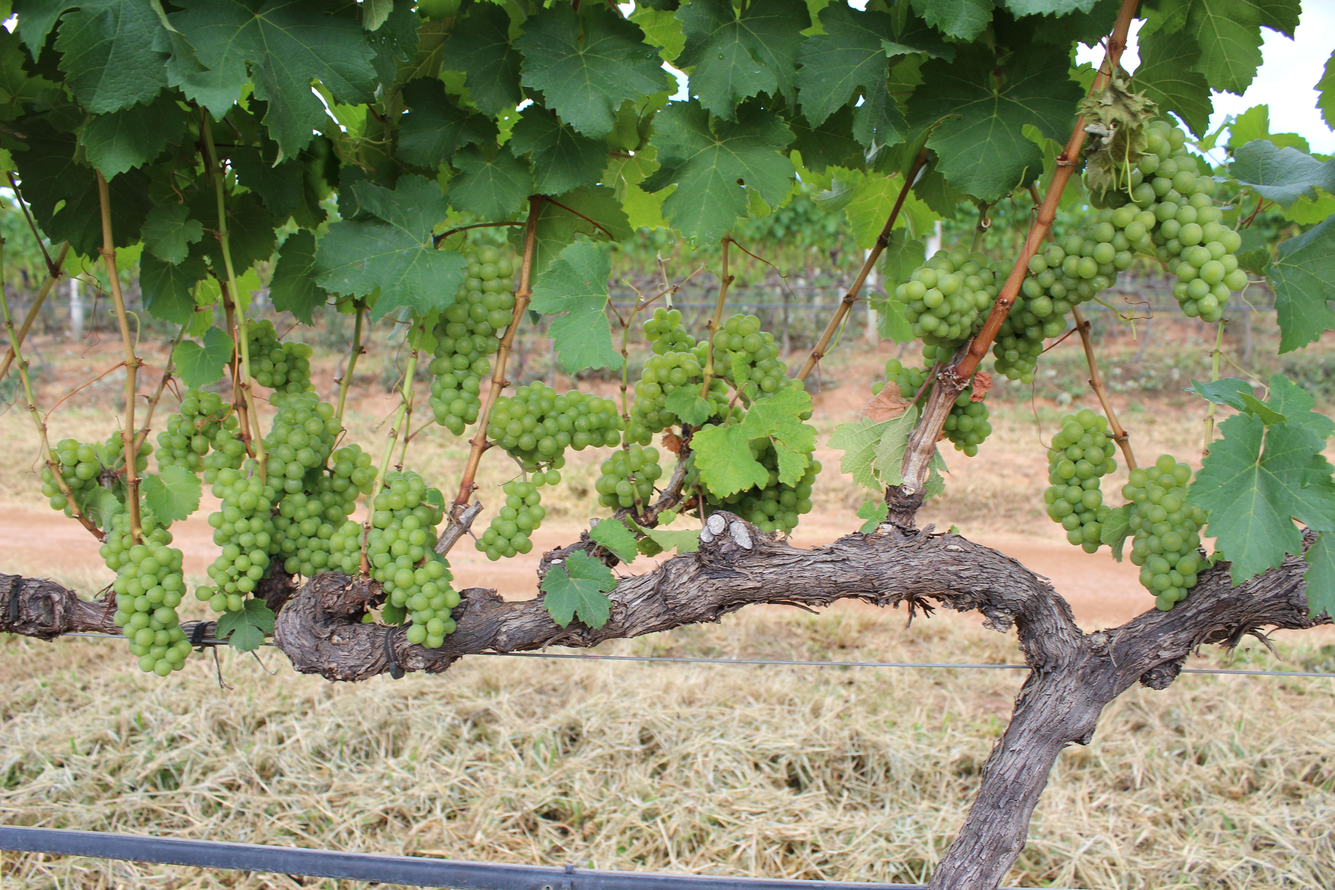leaf: (169, 0, 377, 156), (908, 44, 1081, 201), (1188, 414, 1324, 583), (315, 175, 466, 320), (643, 100, 793, 244), (515, 4, 668, 138), (676, 0, 811, 120), (797, 3, 906, 147), (43, 0, 167, 114), (530, 241, 622, 374), (441, 3, 524, 117), (82, 93, 187, 180), (1268, 216, 1335, 352), (397, 78, 497, 168), (509, 105, 608, 195), (1131, 31, 1212, 136), (1229, 138, 1335, 208), (448, 145, 533, 221), (541, 551, 616, 628), (691, 424, 768, 497), (270, 229, 327, 324), (787, 106, 865, 173), (139, 252, 208, 324), (1267, 374, 1335, 440), (172, 327, 233, 388), (142, 203, 203, 264), (142, 465, 201, 522), (912, 0, 993, 41), (215, 598, 274, 651), (1304, 532, 1335, 618), (589, 518, 637, 562), (664, 384, 712, 426), (1100, 504, 1131, 562), (1315, 51, 1335, 129), (1005, 0, 1097, 16), (643, 528, 699, 553), (856, 500, 888, 534), (820, 114, 827, 121), (803, 152, 807, 160), (831, 161, 837, 164), (904, 47, 908, 51), (159, 64, 161, 69), (145, 0, 147, 5), (839, 165, 848, 166), (1332, 611, 1335, 614), (56, 11, 58, 14), (20, 10, 21, 15), (33, 4, 35, 5), (25, 4, 27, 5), (817, 121, 819, 122), (840, 103, 842, 104), (1030, 47, 1031, 49), (30, 45, 31, 46), (832, 109, 832, 109), (846, 97, 846, 100)
